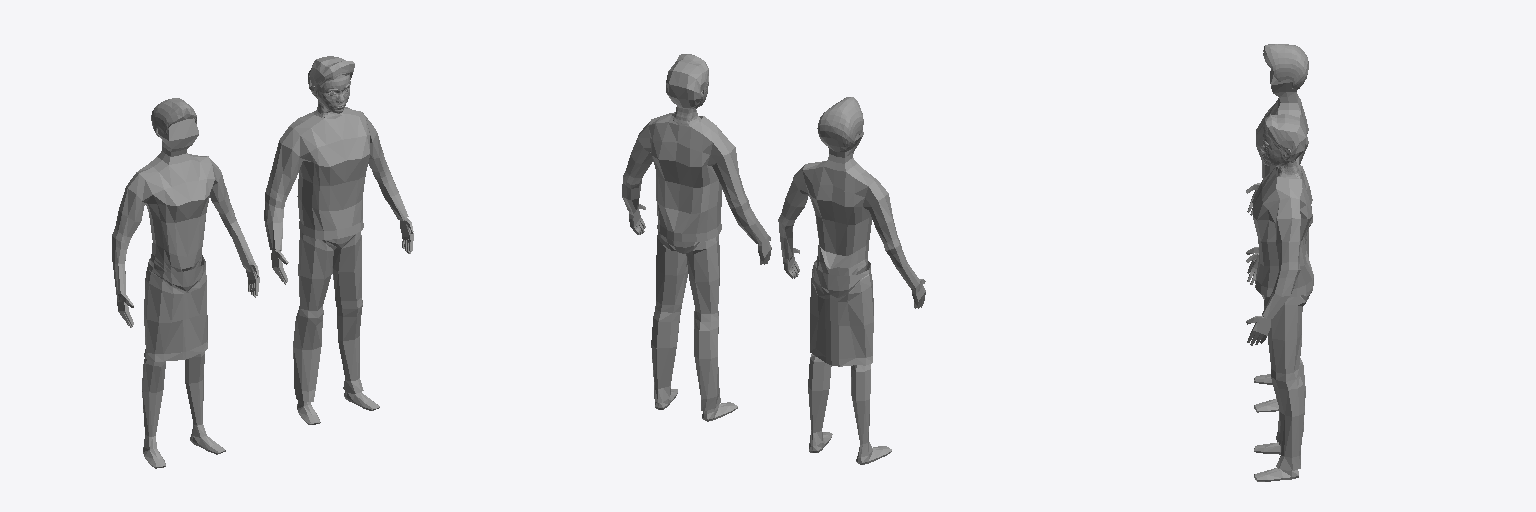
File: traeger.obj
3 views of the same model, side by side, from view 1: azimuth 30°, elevation 25°; view 2: azimuth 150°, elevation 25°; view 3: azimuth 270°, elevation 25° (orthographic).
Parts seen in each view (by area): view 1: Cube.008, Cube, Cube.003_Cube.010, Plane, Cube.007; view 2: Cube.008, Cube, Cube.003_Cube.010, Plane, Cube.007; view 3: Cube.008, Cube, Plane, Cube.007.
Part boxes in pixels (x1,y1,x2,y2): Cube.008: (264, 75, 413, 424); Cube: (112, 118, 259, 468); Cube.003_Cube.010: (144, 255, 207, 361); Plane: (151, 98, 196, 136); Cube.007: (308, 56, 354, 90); Cube.008: (622, 88, 771, 421); Cube: (778, 130, 925, 464); Cube.003_Cube.010: (810, 260, 873, 366); Plane: (817, 97, 863, 151); Cube.007: (666, 54, 708, 107); Cube.008: (1246, 130, 1313, 481); Cube: (1246, 70, 1308, 412); Plane: (1263, 44, 1308, 88); Cube.007: (1263, 114, 1305, 160).
Size of the model in its own units: 1.69 by 1.99 by 0.3485.